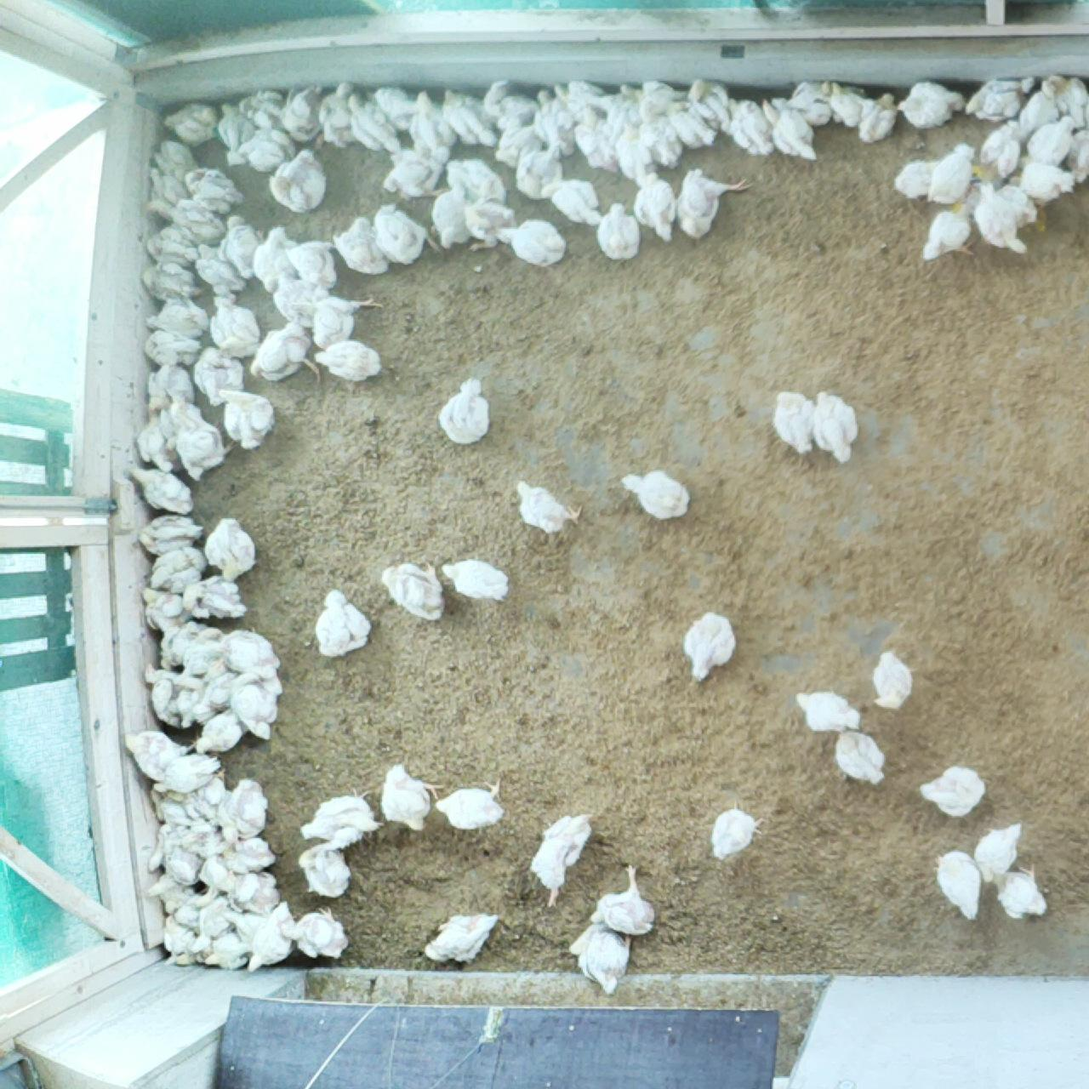chicken: (527, 808, 600, 915), (166, 398, 238, 484), (672, 165, 753, 241), (299, 780, 386, 849), (564, 916, 636, 999), (588, 862, 661, 939), (376, 757, 446, 835), (247, 317, 325, 387), (375, 554, 450, 626), (291, 828, 359, 902), (368, 200, 443, 267), (432, 775, 511, 837), (214, 385, 282, 457), (679, 609, 739, 687), (308, 282, 382, 345), (972, 179, 1031, 258), (203, 626, 284, 683), (312, 587, 376, 659), (508, 478, 588, 535), (614, 466, 694, 523), (267, 145, 330, 217), (927, 846, 985, 924), (276, 905, 351, 964), (379, 140, 452, 200), (425, 909, 503, 965), (759, 94, 821, 164), (123, 460, 199, 517), (915, 761, 988, 820), (707, 796, 770, 864), (494, 214, 570, 270), (440, 82, 499, 154), (202, 513, 259, 587), (807, 386, 861, 464), (344, 90, 405, 158), (791, 678, 865, 734), (919, 197, 979, 266), (243, 898, 297, 974), (437, 375, 494, 447), (178, 568, 250, 625), (894, 78, 968, 133), (407, 85, 456, 167), (207, 293, 266, 360), (867, 644, 923, 714), (311, 75, 362, 151), (964, 71, 1037, 124), (974, 818, 1030, 887), (120, 727, 190, 782), (332, 214, 392, 278), (426, 181, 480, 252), (218, 777, 274, 844), (513, 137, 569, 204), (459, 191, 518, 254), (995, 860, 1052, 925), (160, 95, 225, 152), (438, 554, 512, 604), (636, 94, 686, 168), (830, 728, 891, 788), (132, 404, 184, 474), (188, 655, 241, 723), (975, 116, 1027, 185), (538, 173, 603, 228), (185, 889, 236, 959), (271, 80, 328, 142), (632, 169, 679, 244), (312, 336, 385, 384), (232, 676, 284, 743), (771, 385, 819, 457), (252, 223, 299, 296), (139, 294, 210, 342), (441, 153, 510, 202), (131, 513, 206, 558), (281, 237, 341, 293), (269, 264, 324, 324), (573, 103, 619, 174), (193, 242, 252, 297), (220, 864, 282, 916), (928, 138, 976, 205), (142, 361, 197, 419), (1021, 110, 1076, 167), (613, 117, 660, 183), (146, 544, 209, 593), (137, 261, 204, 307), (216, 212, 260, 281), (154, 751, 223, 795), (234, 125, 300, 171), (141, 664, 189, 727), (159, 197, 226, 242), (729, 94, 776, 158), (183, 164, 245, 212), (1019, 161, 1081, 208), (139, 327, 205, 371), (1015, 73, 1060, 135), (781, 78, 834, 130), (667, 98, 719, 151), (137, 581, 188, 634), (532, 86, 574, 150), (887, 158, 949, 201), (487, 76, 537, 129), (190, 710, 247, 756), (1045, 70, 1089, 128), (854, 91, 899, 147), (492, 118, 545, 165), (617, 73, 680, 112), (686, 75, 734, 126), (147, 136, 202, 180), (221, 835, 281, 875), (371, 83, 421, 131), (193, 793, 239, 845), (177, 816, 233, 858), (140, 228, 196, 269), (199, 930, 252, 973), (155, 620, 202, 668), (825, 78, 869, 129), (180, 627, 227, 674), (216, 98, 255, 154), (236, 83, 283, 127), (550, 76, 602, 113), (146, 161, 186, 207), (147, 874, 191, 915), (169, 843, 210, 885), (1063, 122, 1089, 186), (160, 915, 193, 965), (585, 87, 635, 120), (197, 856, 241, 893), (148, 822, 180, 872), (147, 788, 190, 825)
